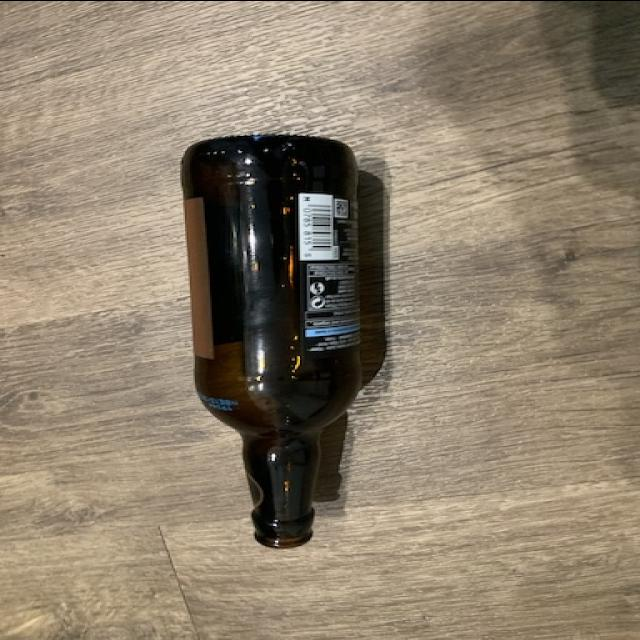Glass Bottle: (176, 132, 368, 548)
